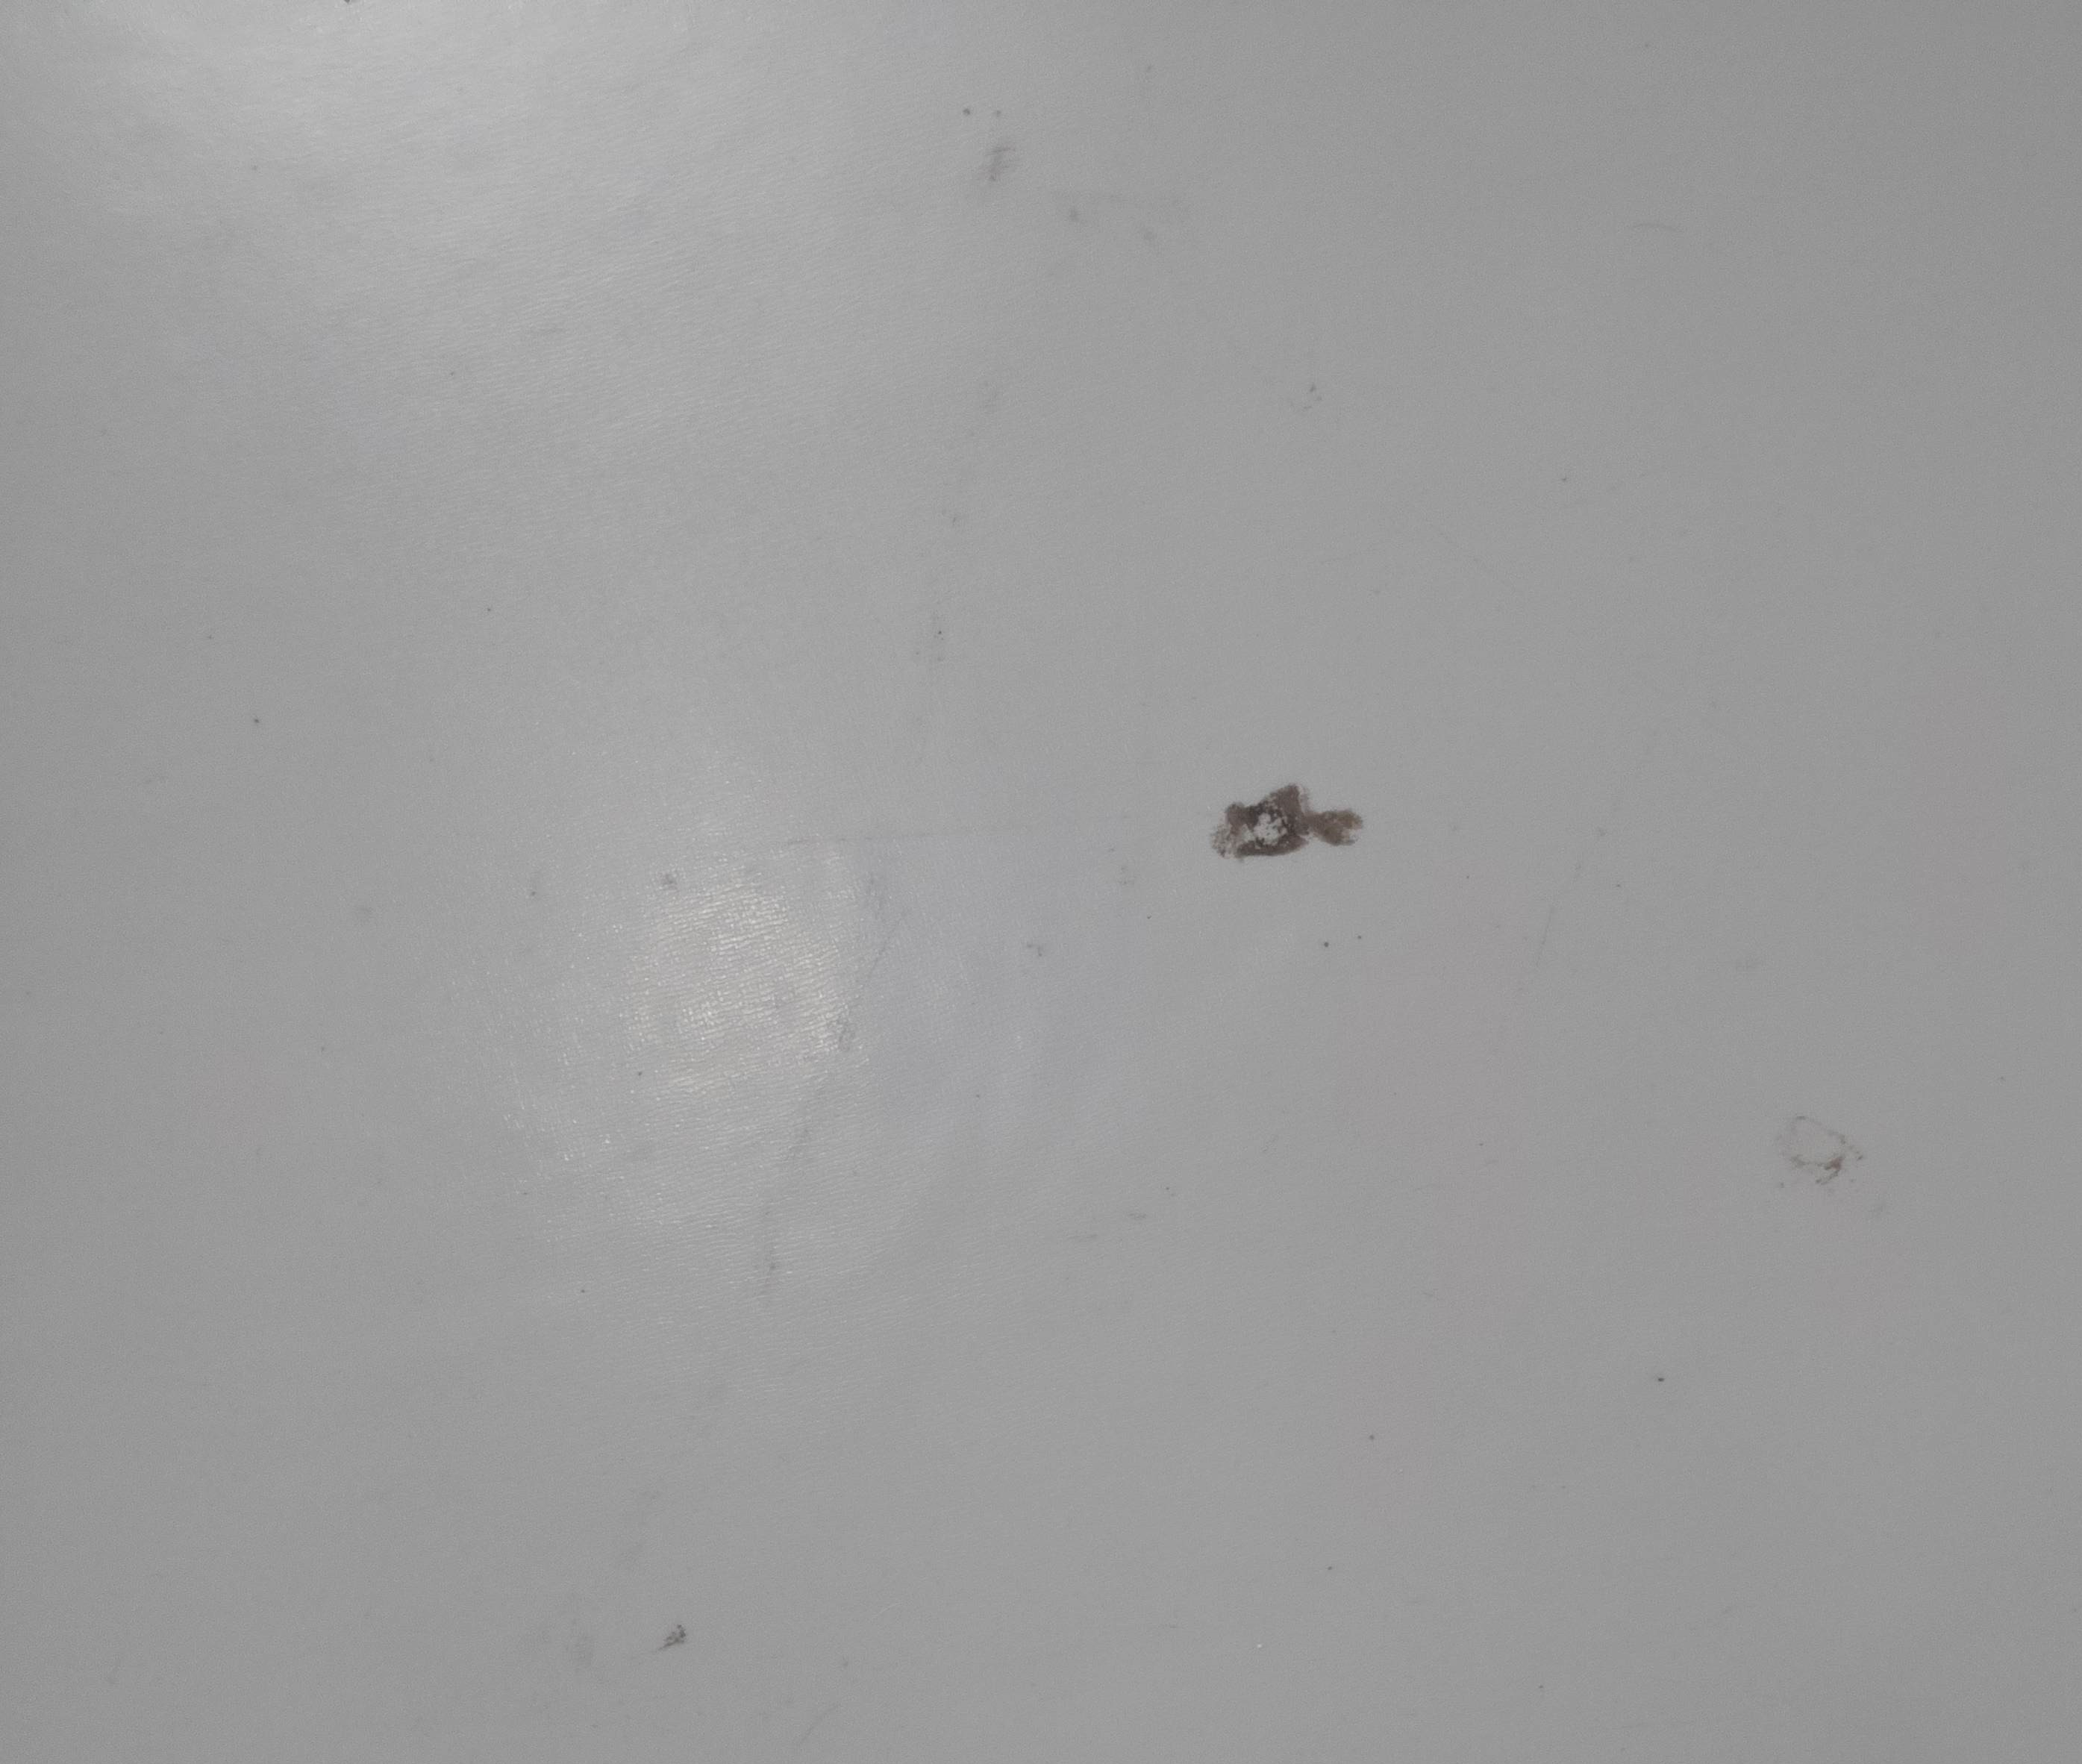grey spot: (1211, 781, 1359, 858)
